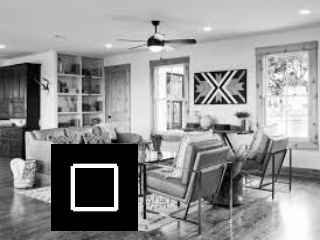square: (51, 144, 138, 231)
